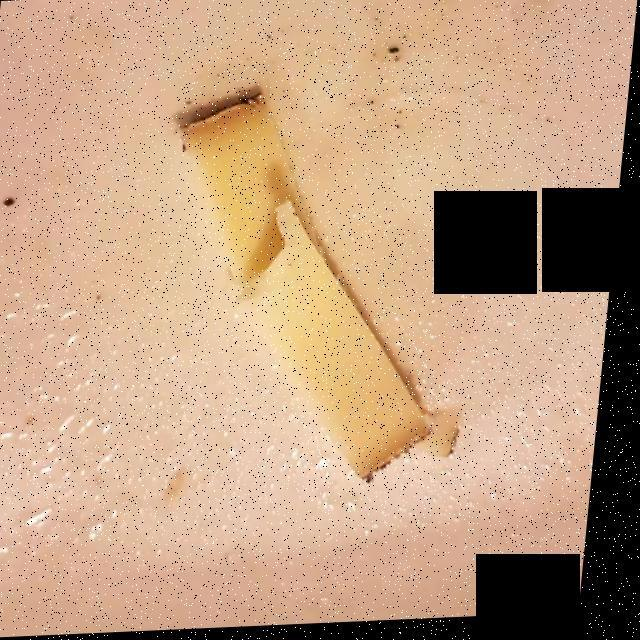gruyere: (194, 117, 432, 473)
